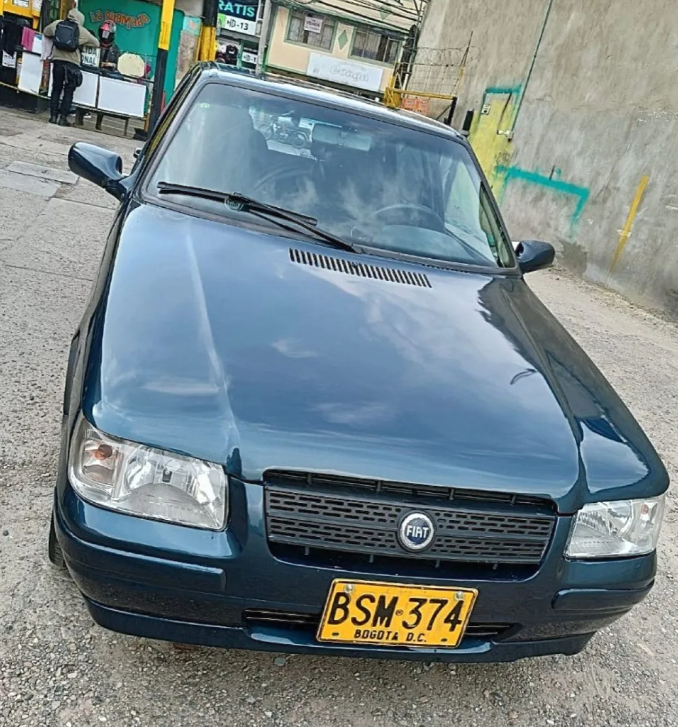placa: (311, 582, 472, 647)
